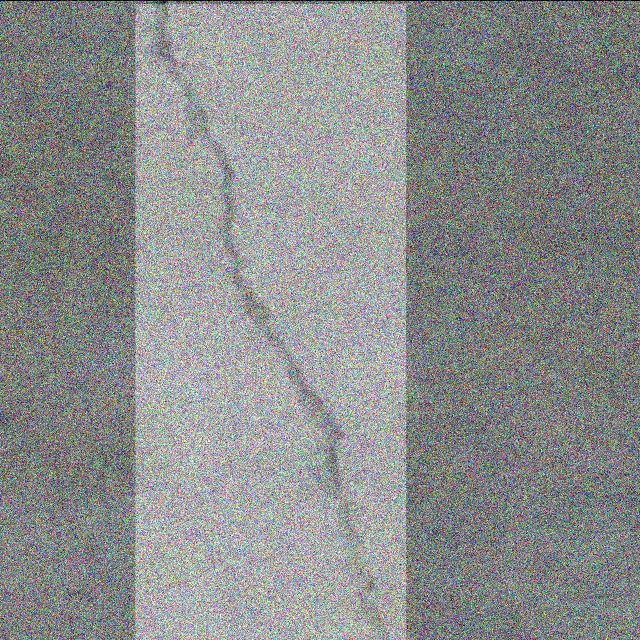SurfaceCrack: (132, 0, 404, 640)
